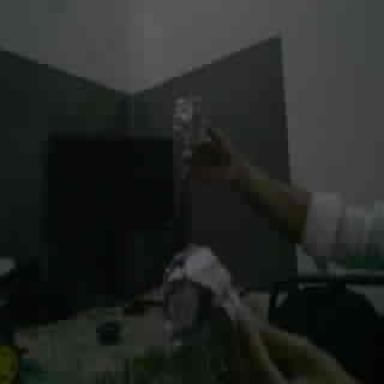paper: (173, 98, 209, 178)
